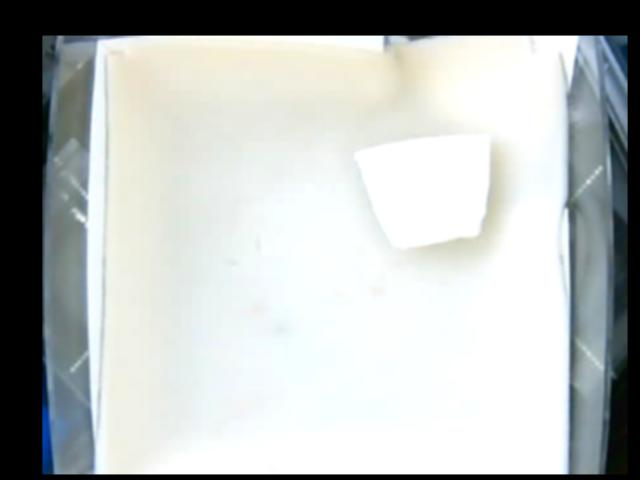Cup: (357, 133, 490, 245)
